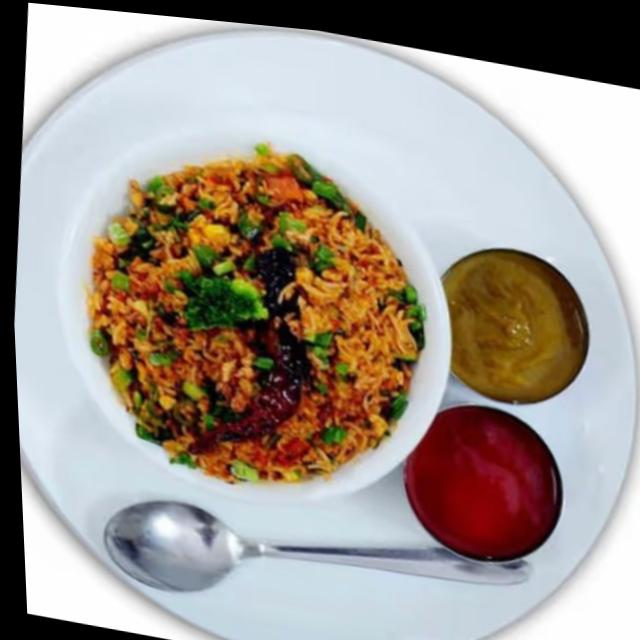BIRIYANI: (79, 150, 424, 486)
GREEN CHUTNEY: (440, 246, 590, 404)
SAUCE: (413, 403, 560, 560)
